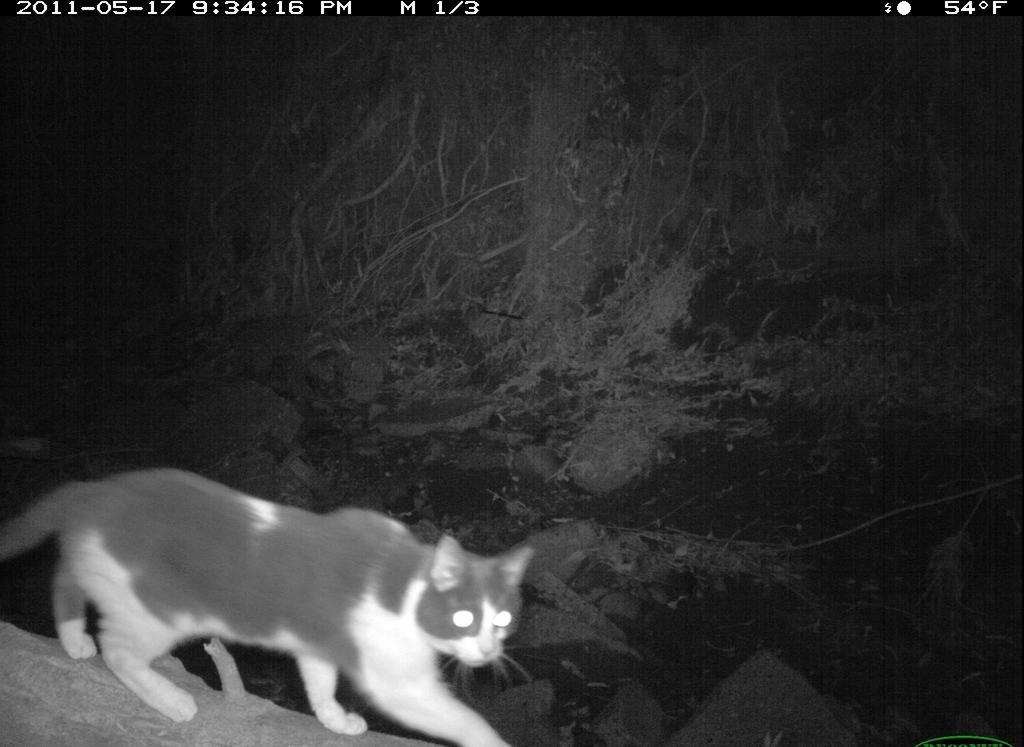cat: (3, 461, 546, 747)
